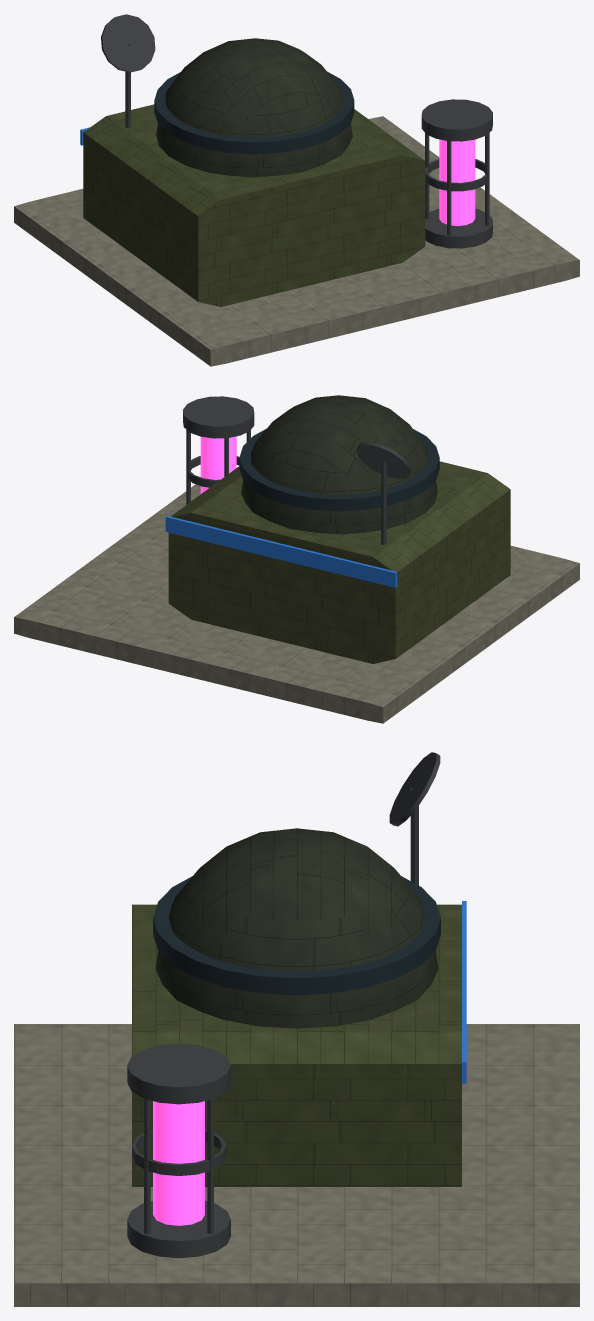
The model's file is militar_laboratorio.glb.
3 views of the same model, one above another, from view 1: azimuth 30°, elevation 25°; view 2: azimuth 150°, elevation 25°; view 3: azimuth 270°, elevation 25° (orthographic). The views are drawn at different scales.
Parts seen in each view (by area): view 1: Body_Hull, Body_Concrete, Body_HullDark, Body_Metal, Body_Glass, Body_CoreGlow; view 2: Body_Hull, Body_Concrete, Body_HullDark, Body_Metal, Body_Glass, Body_TeamColor, Body_CoreGlow; view 3: Body_Concrete, Body_Hull, Body_HullDark, Body_Metal, Body_Glass, Body_CoreGlow, Body_TeamColor.
Part boxes in pixels (box(x1,y1,x2,y2)): Body_Hull: box(83, 104, 425, 306); Body_Concrete: box(14, 116, 579, 366); Body_HullDark: box(156, 38, 352, 177); Body_Metal: box(101, 14, 492, 248); Body_Glass: box(154, 71, 354, 154); Body_CoreGlow: box(439, 139, 475, 226); Body_Hull: box(168, 461, 510, 663); Body_Concrete: box(14, 484, 579, 723); Body_HullDark: box(241, 395, 437, 534); Body_Metal: box(183, 396, 410, 544); Body_Glass: box(239, 428, 439, 511); Body_TeamColor: box(165, 516, 397, 587); Body_CoreGlow: box(200, 436, 236, 493); Body_Concrete: box(14, 1024, 579, 1306); Body_Hull: box(132, 904, 461, 1186); Body_HullDark: box(155, 828, 438, 1028); Body_Metal: box(127, 752, 440, 1258); Body_Glass: box(153, 876, 440, 995); Body_CoreGlow: box(153, 1101, 204, 1225); Body_TeamColor: box(462, 901, 466, 1083).
Size of the model in its own units: 13 by 7.75 by 12.
Materials: 7 (3 with a texture image).
